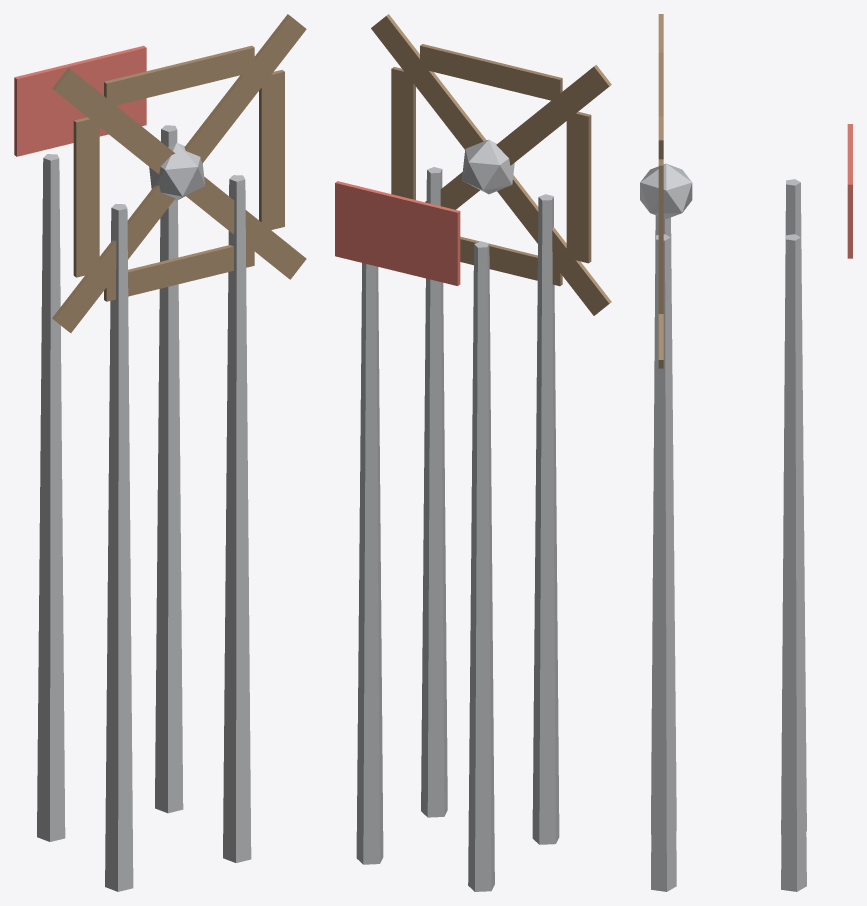
Rendered from wind_pump.glb.
The picture shows the model from 3 angles, left to right: view 1: azimuth 30°, elevation 25°; view 2: azimuth 150°, elevation 25°; view 3: azimuth 270°, elevation 25°; orthographic projection. The views are drawn at different scales.
Visible parts, largest first — view 1: wind_pump; view 2: wind_pump; view 3: wind_pump.
Part boxes in pixels (x1,y1,x2,y2): wind_pump: (14, 14, 306, 891); wind_pump: (335, 14, 611, 891); wind_pump: (640, 14, 852, 891).
Size of the model in its own units: 2.72 by 8.56 by 2.08.
